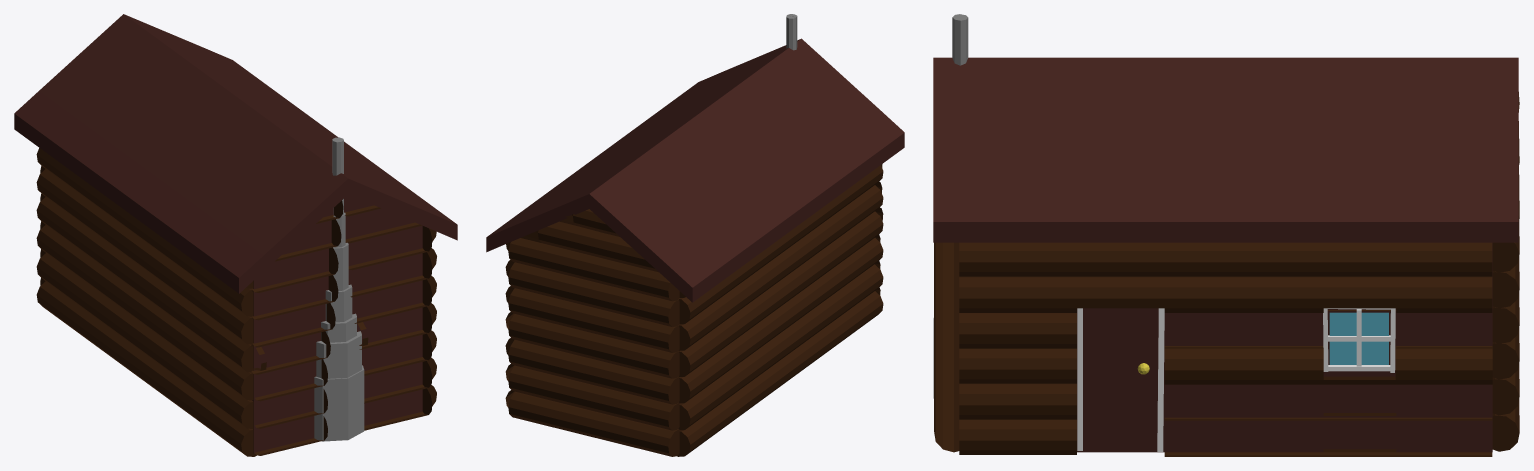
File: Cabin.fbx
The picture shows the model from 3 angles, left to right: view 1: azimuth 30°, elevation 25°; view 2: azimuth 150°, elevation 25°; view 3: azimuth 270°, elevation 25°; orthographic projection. The views are drawn at different scales.
Visible parts, largest first — view 1: main, walls, chimney; view 2: walls, main; view 3: main, walls, window, windowframe, doorframe, chimney.
Part boxes in pixels (x1,y1,x2,y2): main: (14,14,457,453); walls: (36,148,436,456); chimney: (314,137,364,441); walls: (505,164,883,456); main: (486,38,904,428); main: (933,57,1518,452); walls: (934,92,1519,456); window: (1329,312,1388,364); windowframe: (1323,308,1395,372); doorframe: (1077,308,1164,451); chimney: (933,14,968,398).
Size of the model in its own units: 741 by 961 by 1323.
